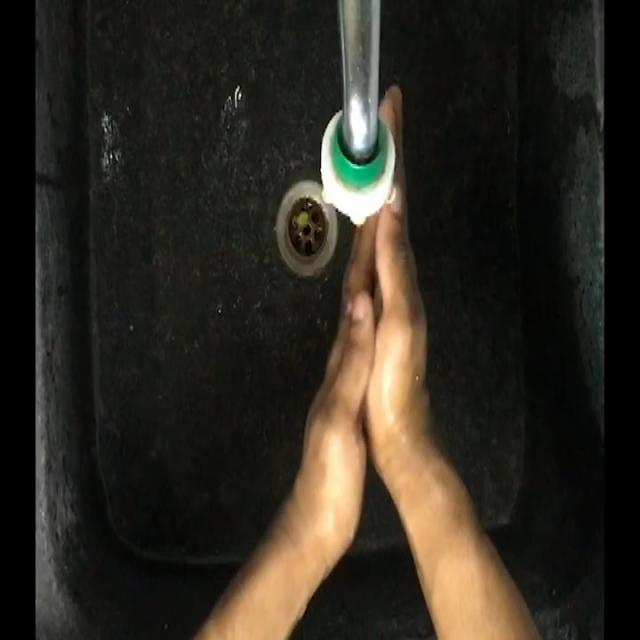step_1: (297, 63, 437, 470)
